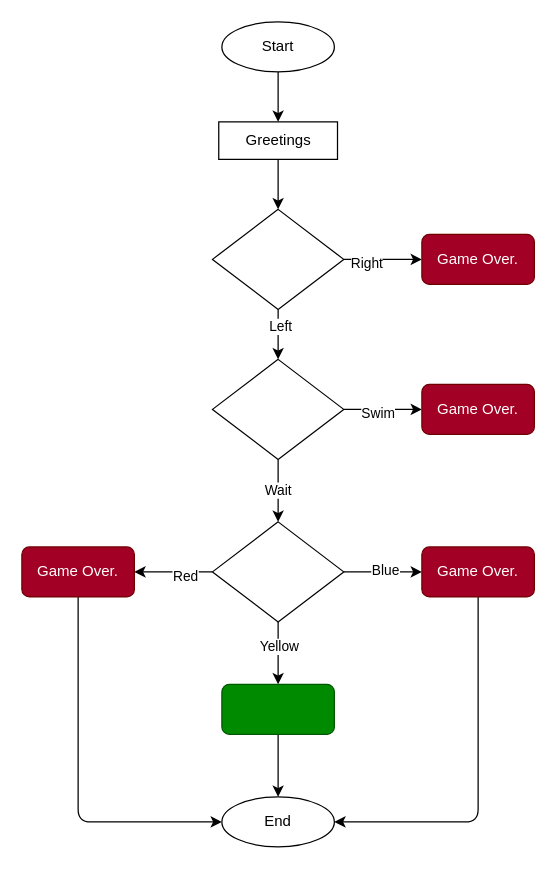
The diagram is 556 pixels wide and 869 high, and some of its shapes have lost their labels. Here are the shapes that lost their labels. From the top down, the centre of each, then its label:
[277,258]: Left or Right?
[277,408]: Swim or Wait?
[277,571]: Door Colour
[277,708]: You win!
